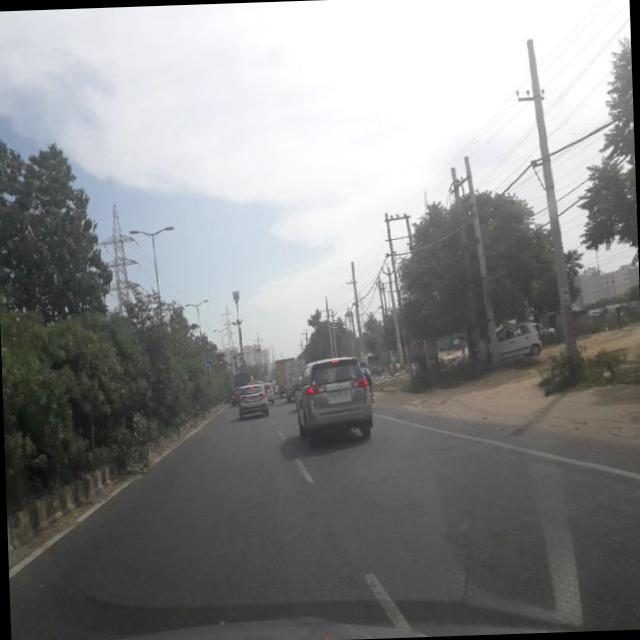crack: (21, 443, 640, 632)
